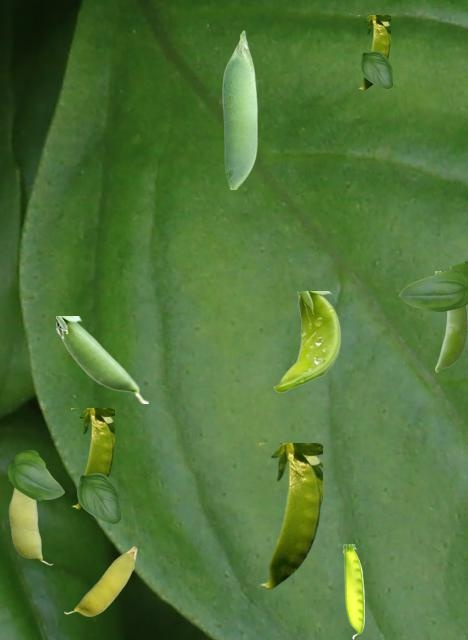pea: (259, 443, 321, 588), (56, 316, 147, 402), (273, 291, 339, 391), (222, 30, 256, 188), (64, 546, 136, 615), (71, 408, 113, 508), (8, 488, 52, 564), (435, 271, 466, 371), (358, 15, 389, 89), (343, 544, 363, 638)
